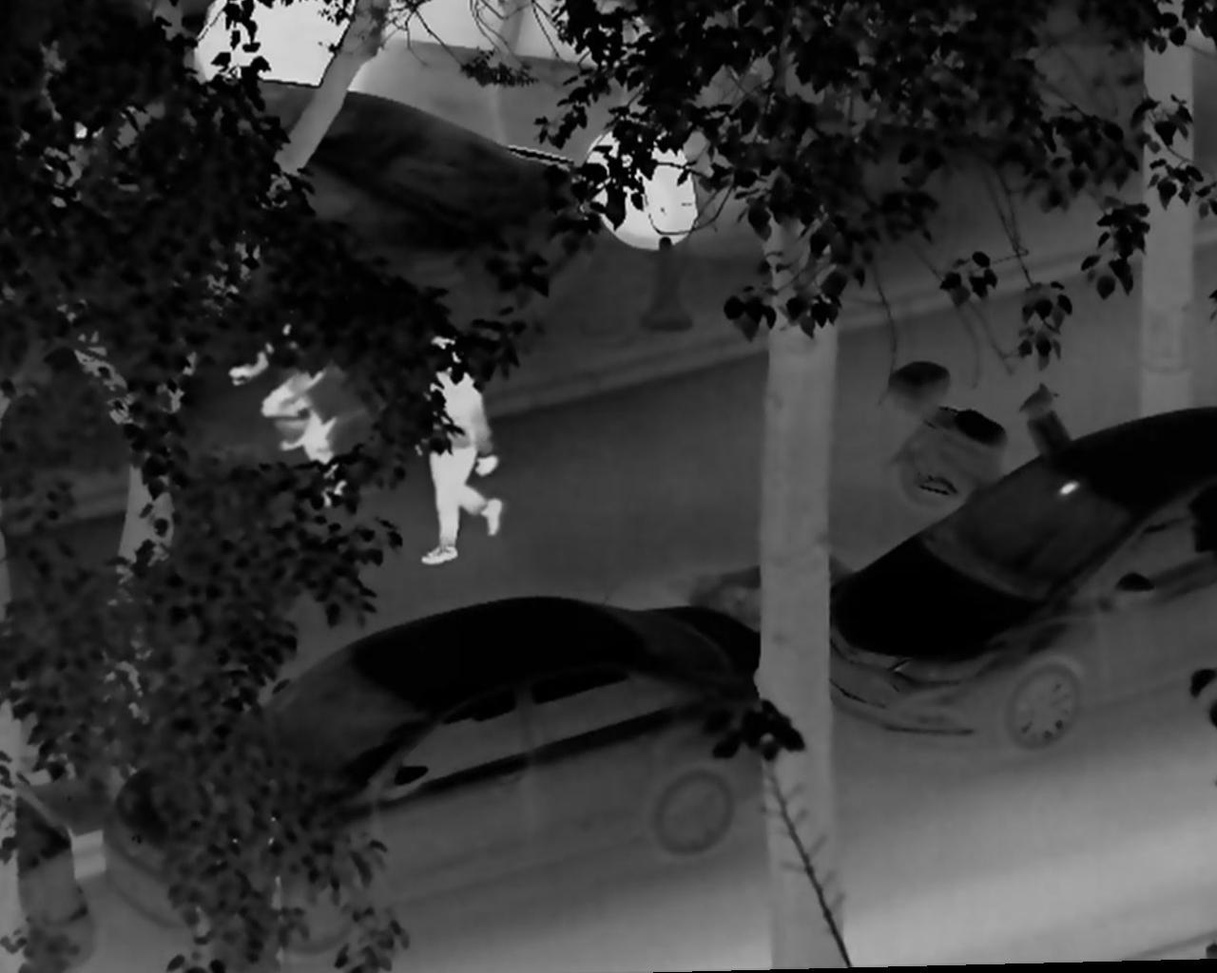person: (400, 332, 505, 569), (225, 316, 348, 506)
